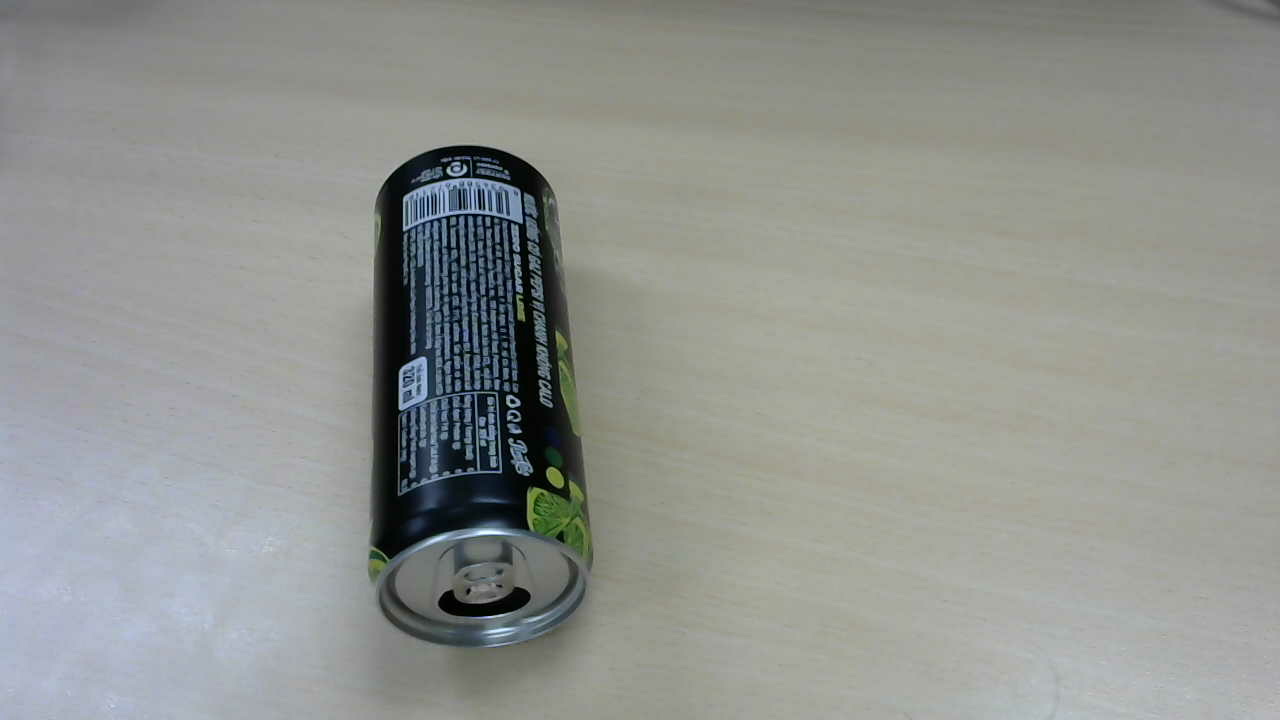Pepsi: (368, 148, 600, 651)
